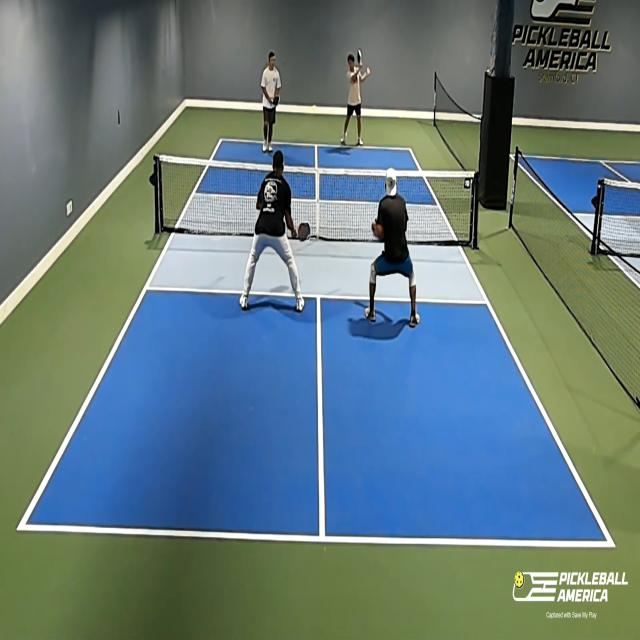Pickleball: (310, 104, 318, 116)
